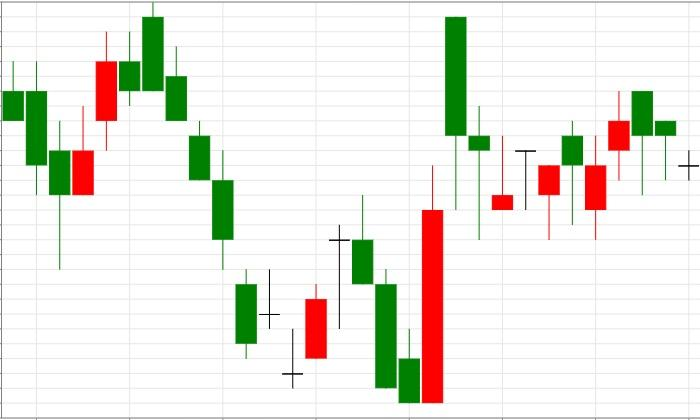bullish_engulfing_rise: (328, 165, 444, 404)
hanging_man_fall: (584, 91, 677, 239)
inverse_hammer_rise: (444, 16, 514, 240)
